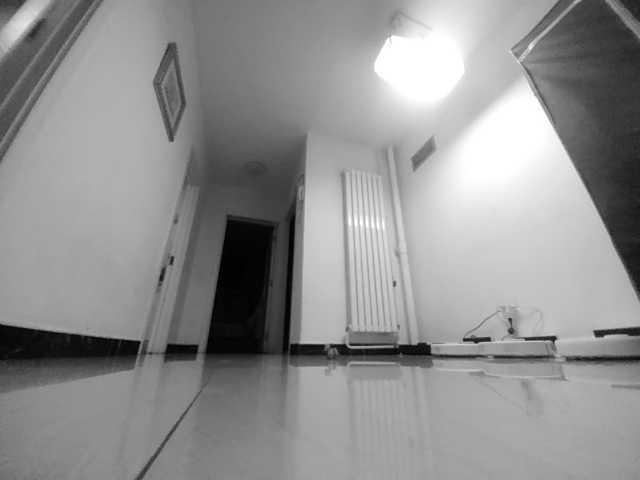toy: (324, 342, 340, 359)
